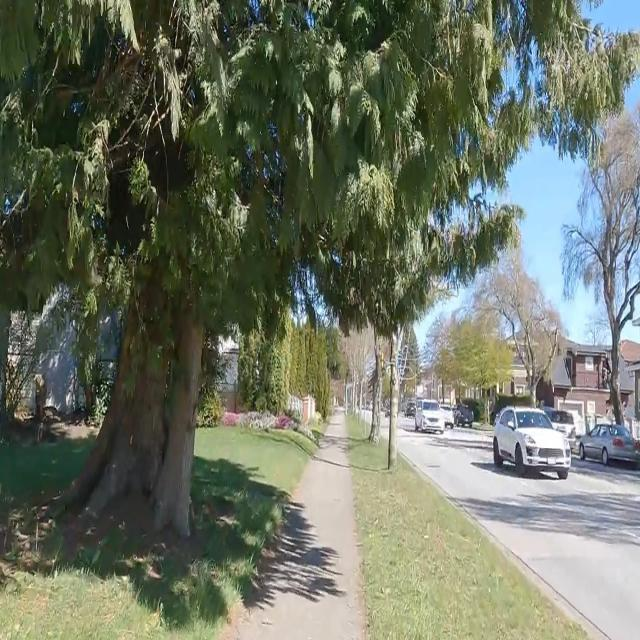Automobile: (492, 406, 570, 478), (580, 425, 639, 466), (415, 400, 447, 433), (453, 404, 473, 426)
Road: (400, 429, 639, 639)
Sidewalk: (223, 412, 364, 639)
